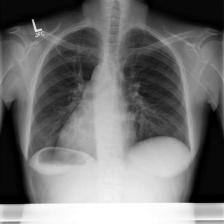normal: (27, 25, 194, 171)
